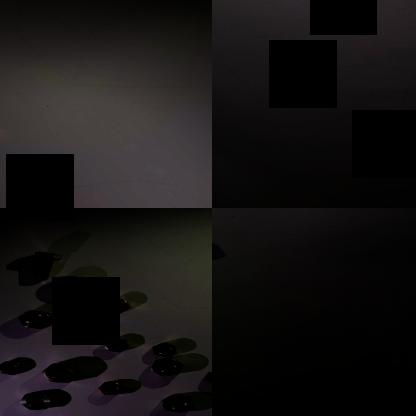Bolts: (22, 248, 64, 284)
NUTS: (14, 307, 57, 333), (50, 274, 92, 300), (38, 360, 82, 384), (15, 390, 58, 412), (158, 392, 196, 414), (148, 356, 188, 376), (94, 378, 123, 398), (100, 296, 132, 314), (148, 342, 180, 356), (0, 358, 22, 377), (101, 338, 130, 352), (202, 369, 212, 384)
